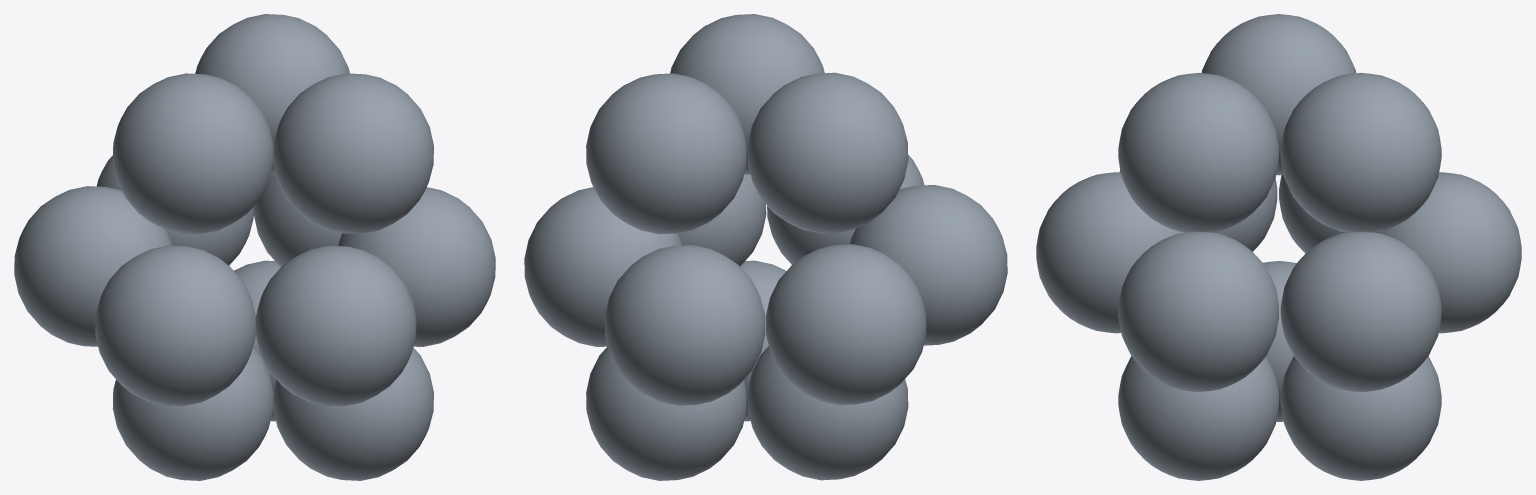
The picture shows the model from 3 angles, left to right: view 1: azimuth 30°, elevation 25°; view 2: azimuth 150°, elevation 25°; view 3: azimuth 270°, elevation 25°; orthographic projection.
Visible parts, largest first — view 1: GeoSphere412; view 2: GeoSphere412; view 3: GeoSphere412.
Boxes of the visible parts, x1,y1,x2,y2 form: GeoSphere412: (14,14,495,480); GeoSphere412: (524,14,1007,480); GeoSphere412: (1036,14,1521,480).
Bounding box in the file's own units: 109 × 107 × 120.
Materials: 1 (1 with a texture image).
